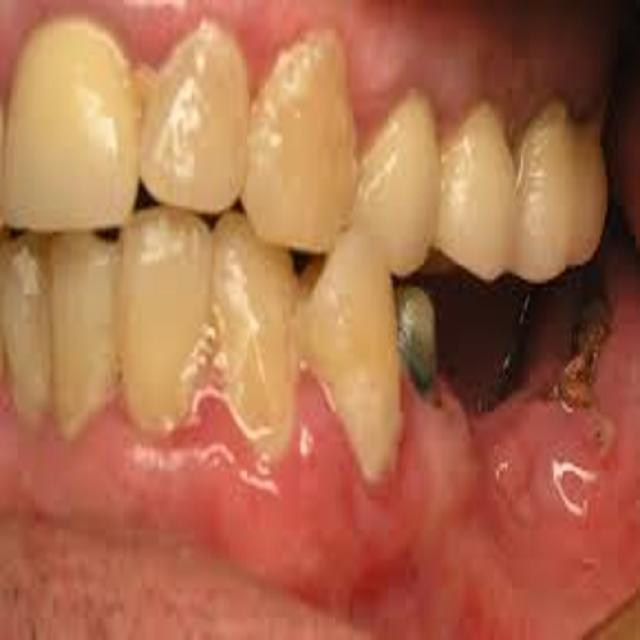Missing: (293, 235, 616, 448)
